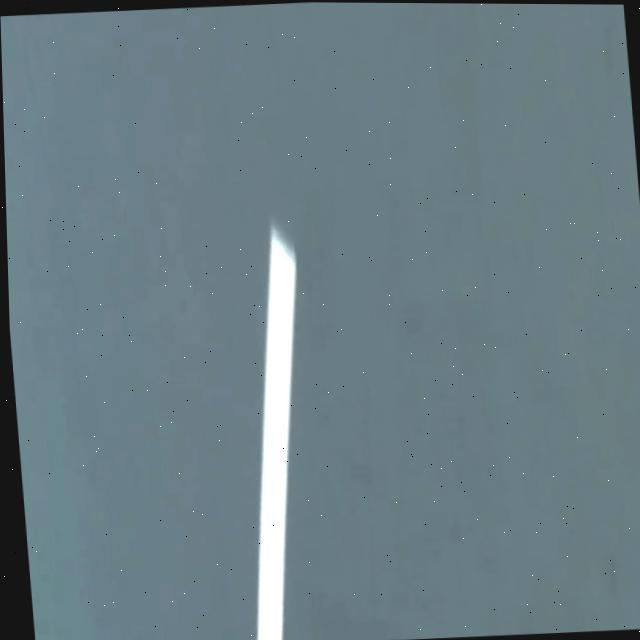center: (257, 228, 296, 640)
